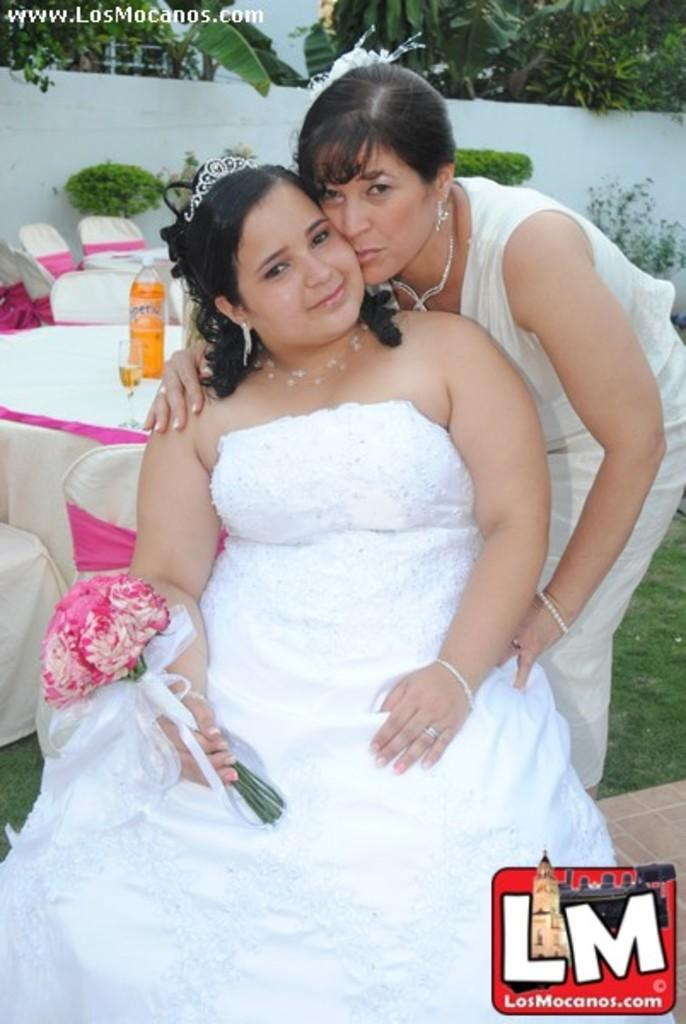Sem Máscara: (236, 187, 362, 343), (309, 135, 432, 285)
